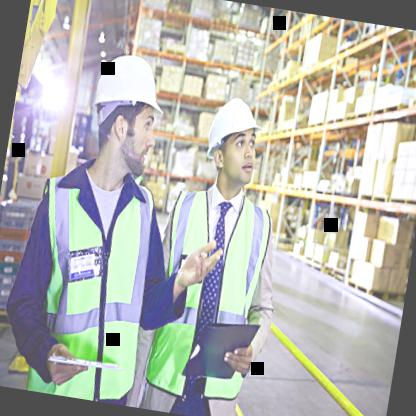helmet: (80, 36, 172, 182), (197, 81, 270, 196)
